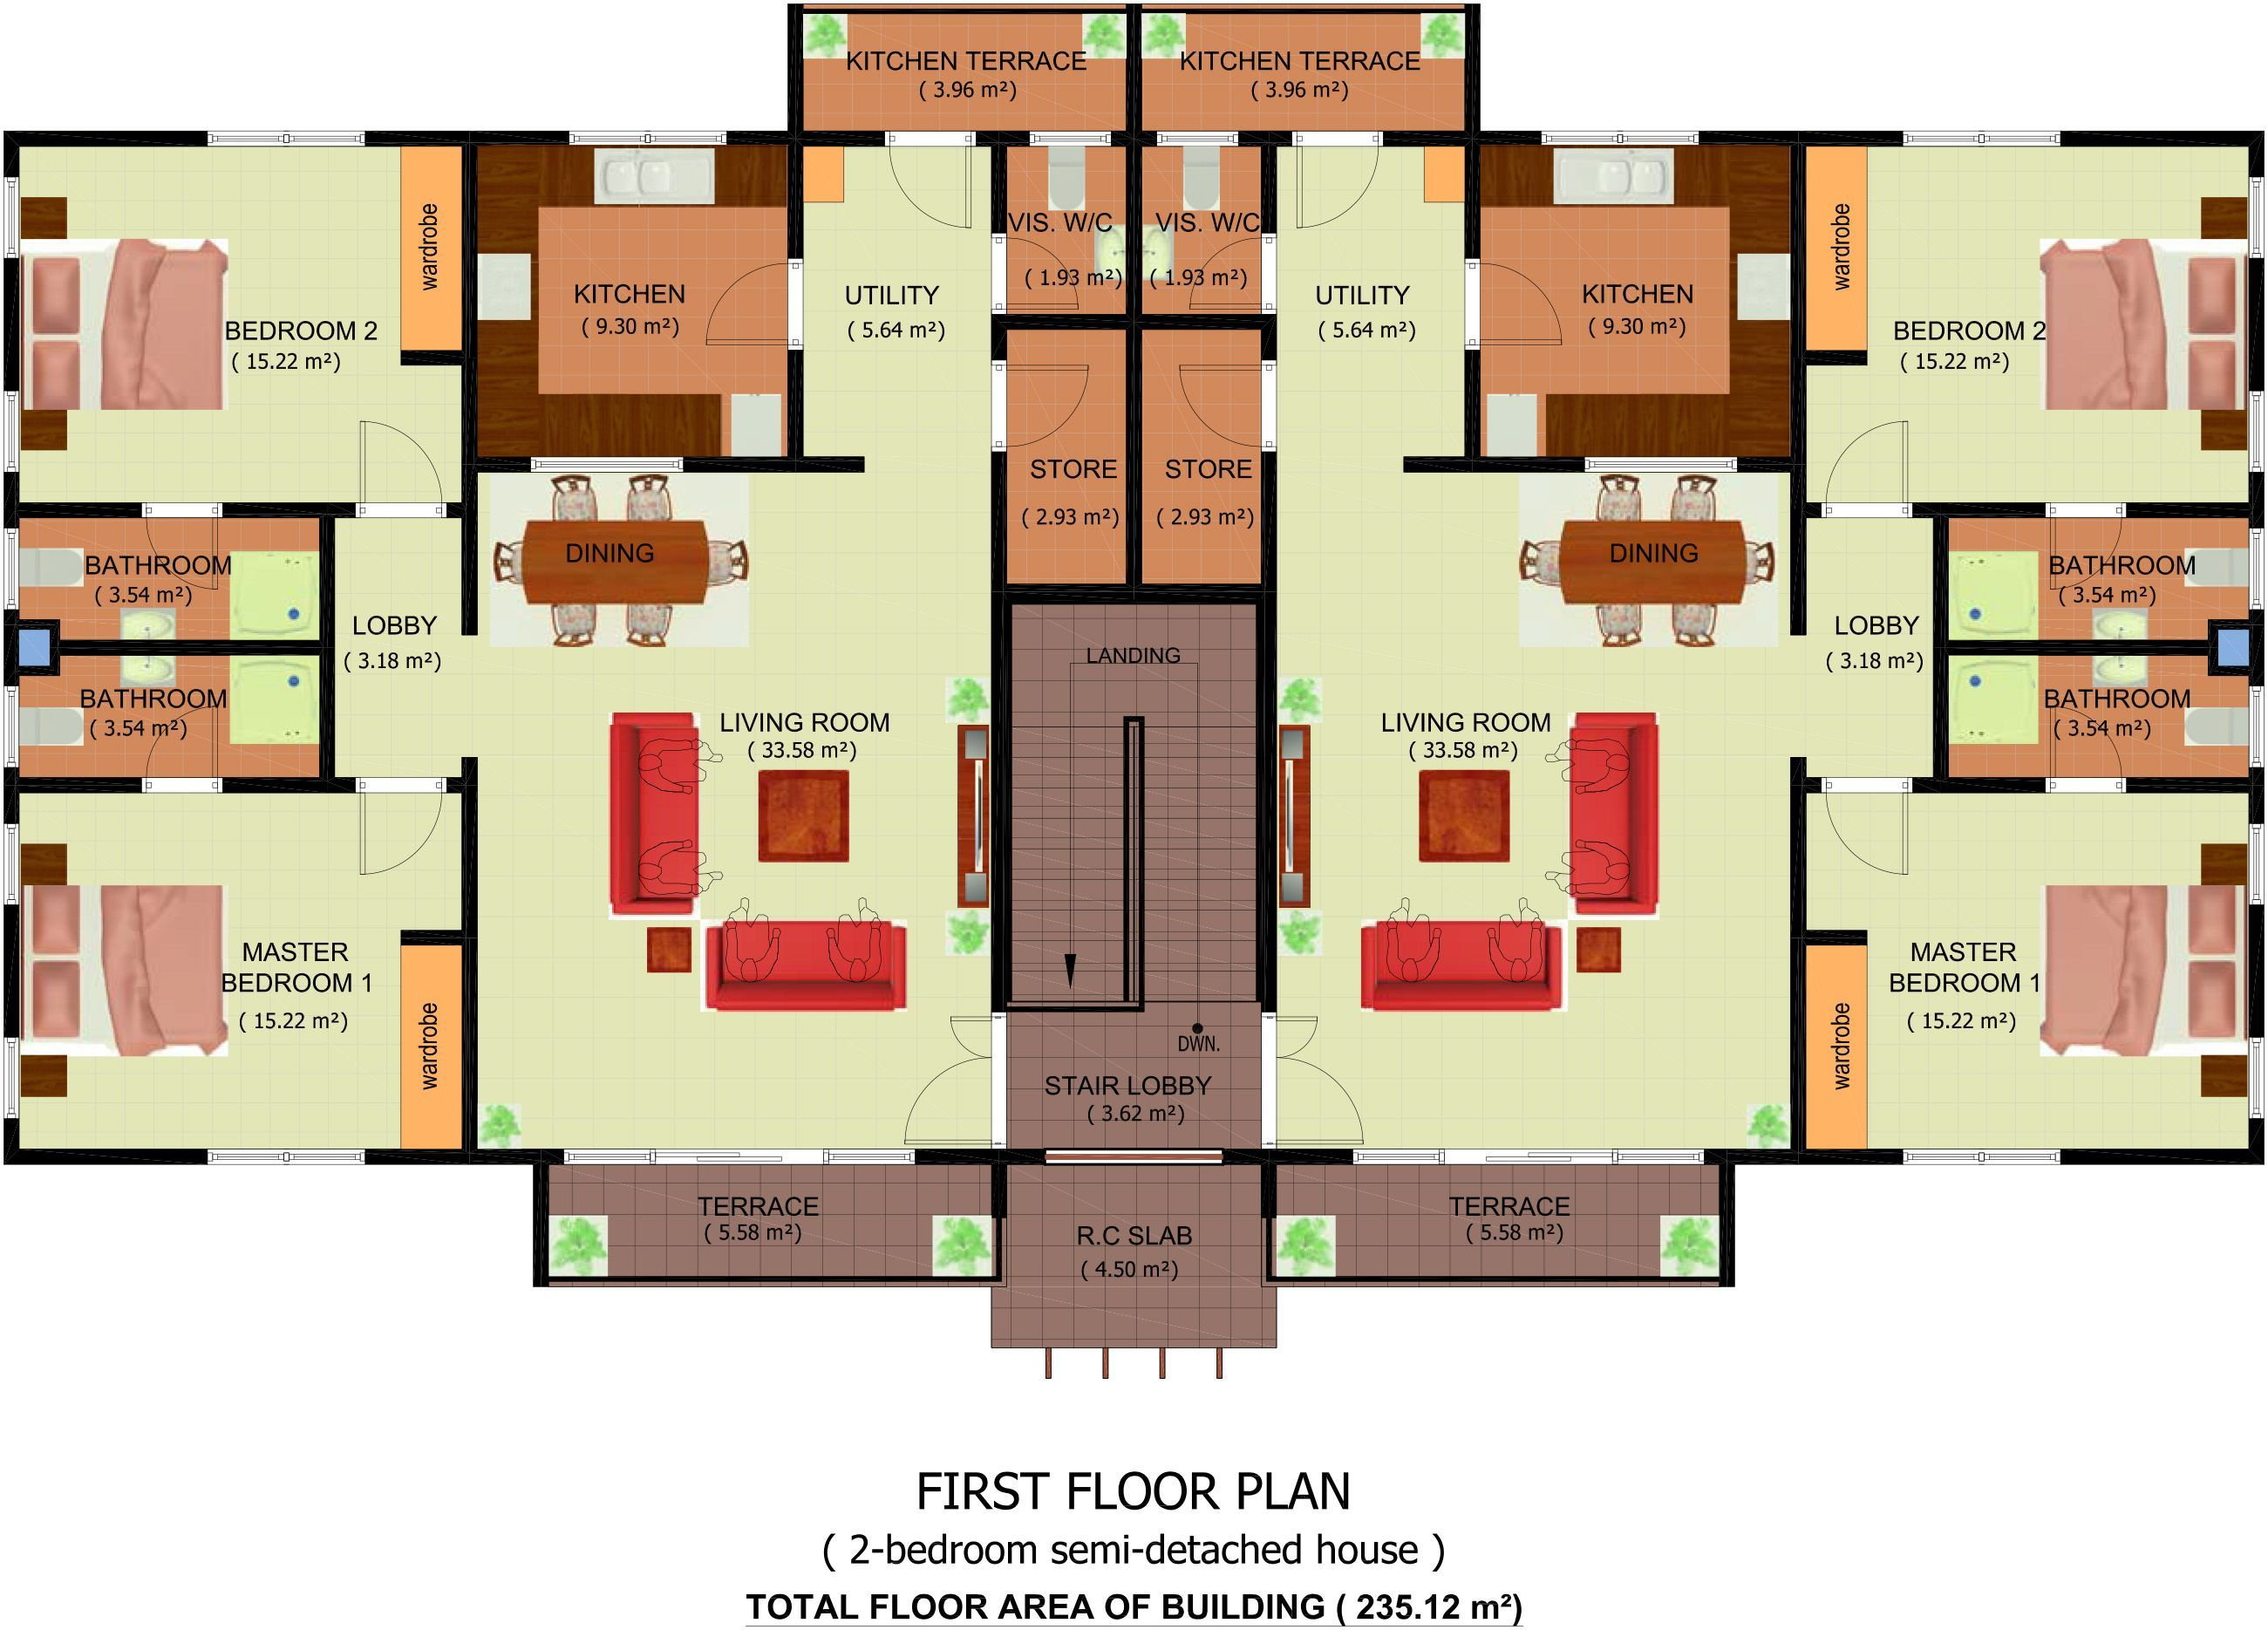window: (1900, 1144, 2062, 1165), (1539, 128, 1703, 148), (1900, 128, 2064, 148), (206, 1146, 368, 1165), (565, 127, 727, 146), (206, 128, 366, 148), (2245, 1035, 2268, 1121), (2247, 387, 2268, 475), (2247, 174, 2268, 261), (2247, 525, 2268, 611), (2247, 685, 2268, 771), (2247, 819, 2268, 905), (2, 1035, 21, 1118), (1027, 128, 1115, 146), (1153, 128, 1240, 146), (2, 683, 19, 767), (2, 176, 19, 259), (2, 389, 19, 472), (4, 526, 21, 609), (2, 822, 19, 905)
